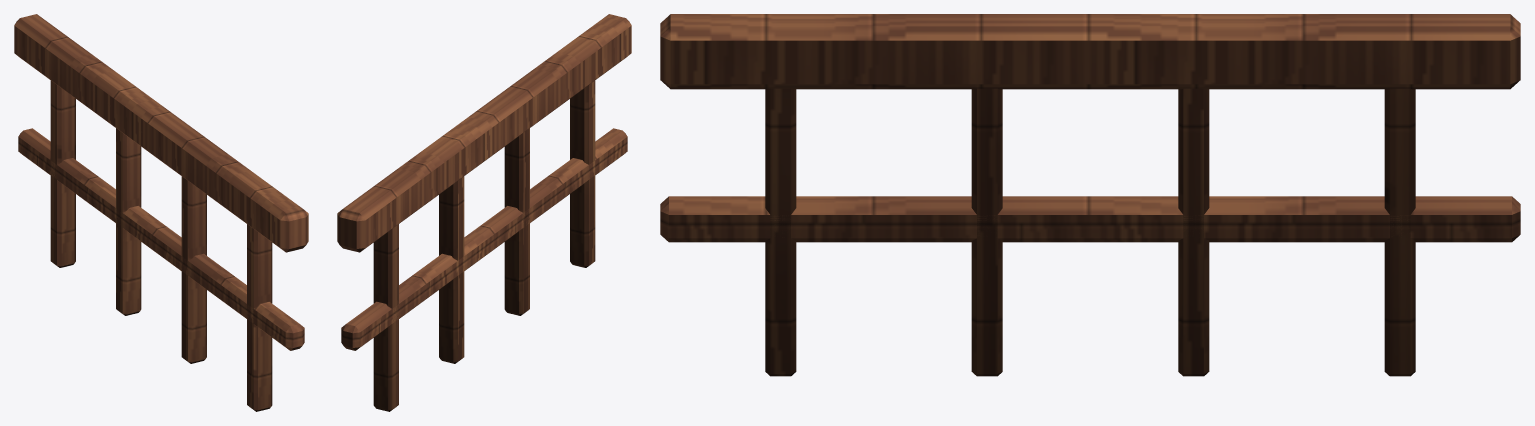
The model's file is rail_z.glb.
3 views of the same model, side by side, from view 1: azimuth 30°, elevation 25°; view 2: azimuth 150°, elevation 25°; view 3: azimuth 270°, elevation 25° (orthographic). The views are drawn at different scales.
Parts seen in each view (by area): view 1: rail_z; view 2: rail_z; view 3: rail_z.
Part boxes in pixels (x1,y1,x2,y2): rail_z: (14, 14, 308, 411); rail_z: (337, 14, 631, 411); rail_z: (660, 14, 1520, 376).
Bounding box in the file's own units: 0.06 × 0.502 × 1.
Materials: 3 (3 with a texture image).
